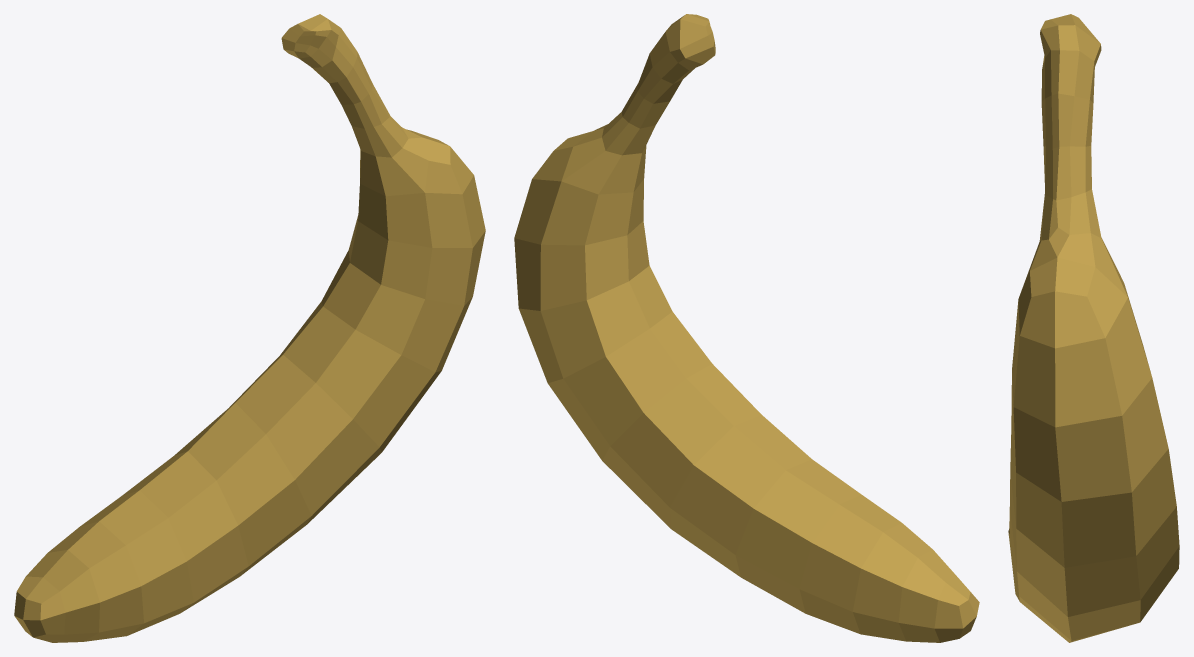
The model's file is Banana.glb.
3 renders of one model, left to right at view 1: azimuth 30°, elevation 25°; view 2: azimuth 150°, elevation 25°; view 3: azimuth 270°, elevation 25°, orthographic. The views are drawn at different scales.
Visible parts, largest first — view 1: Banana; view 2: Banana; view 3: Banana.
Part boxes in pixels (<box>): Banana: <box>14,14,485,642</box>; Banana: <box>514,14,979,642</box>; Banana: <box>1008,14,1179,642</box>.
Size of the model in its own units: 1.18 by 1.4 by 0.3095.
